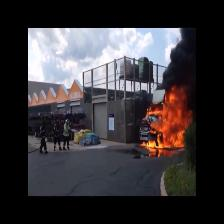fire: (147, 99, 186, 147)
smoke: (173, 28, 195, 87)
